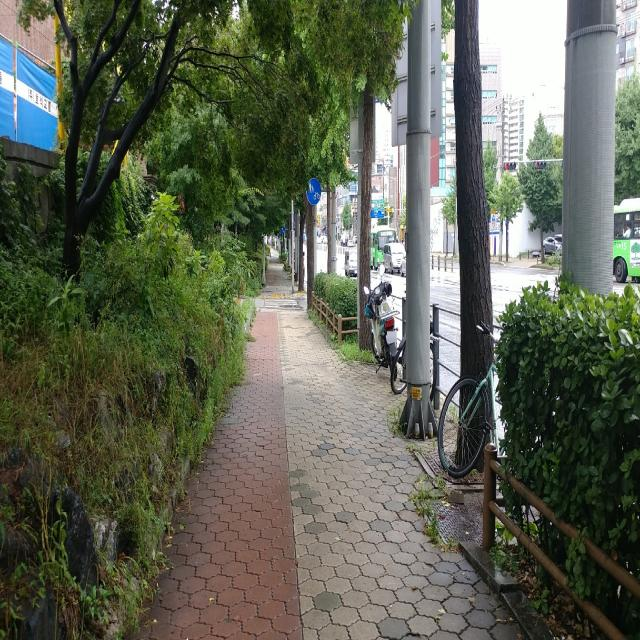횡단보도: (264, 299, 300, 312)
